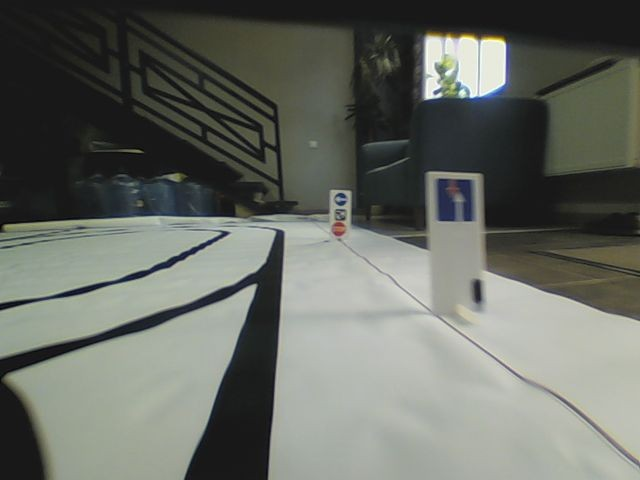priority_movement: (434, 175, 477, 225)
